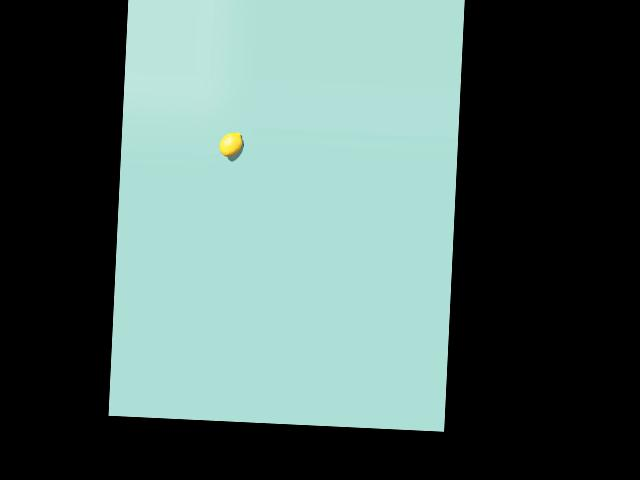lemon: (219, 129, 246, 164)
